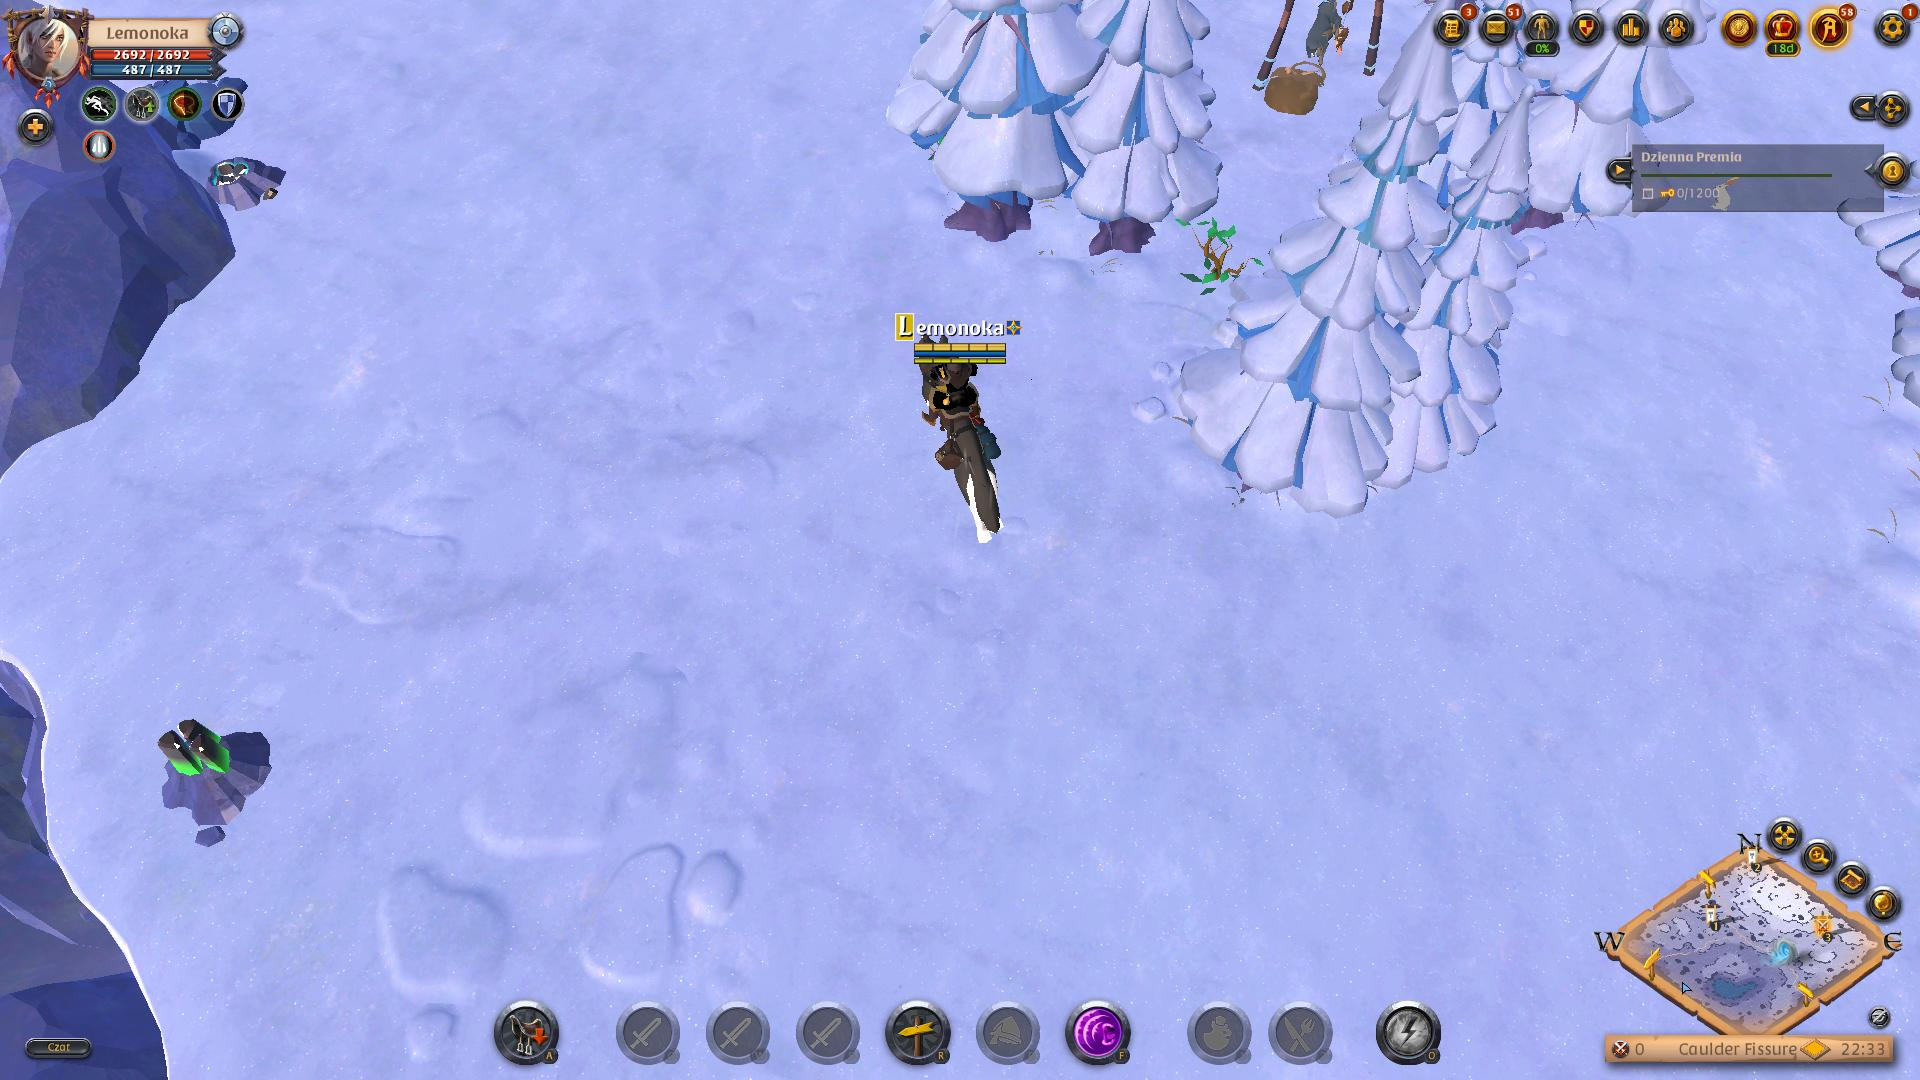ore tier 3: (150, 713, 278, 833)
